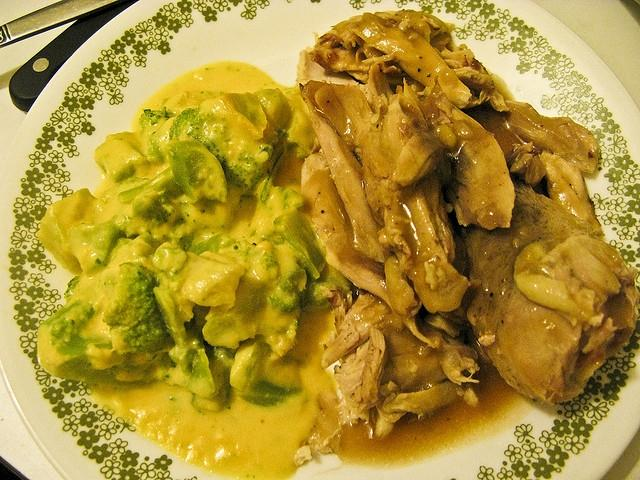broccoli: (36, 260, 174, 388), (168, 105, 264, 190), (154, 288, 220, 400), (262, 186, 328, 280), (152, 242, 246, 305), (230, 334, 301, 408), (167, 140, 228, 203), (112, 187, 176, 239), (68, 221, 120, 277), (228, 276, 274, 323), (260, 128, 288, 204), (268, 280, 302, 312), (139, 107, 173, 131), (162, 236, 171, 242)
